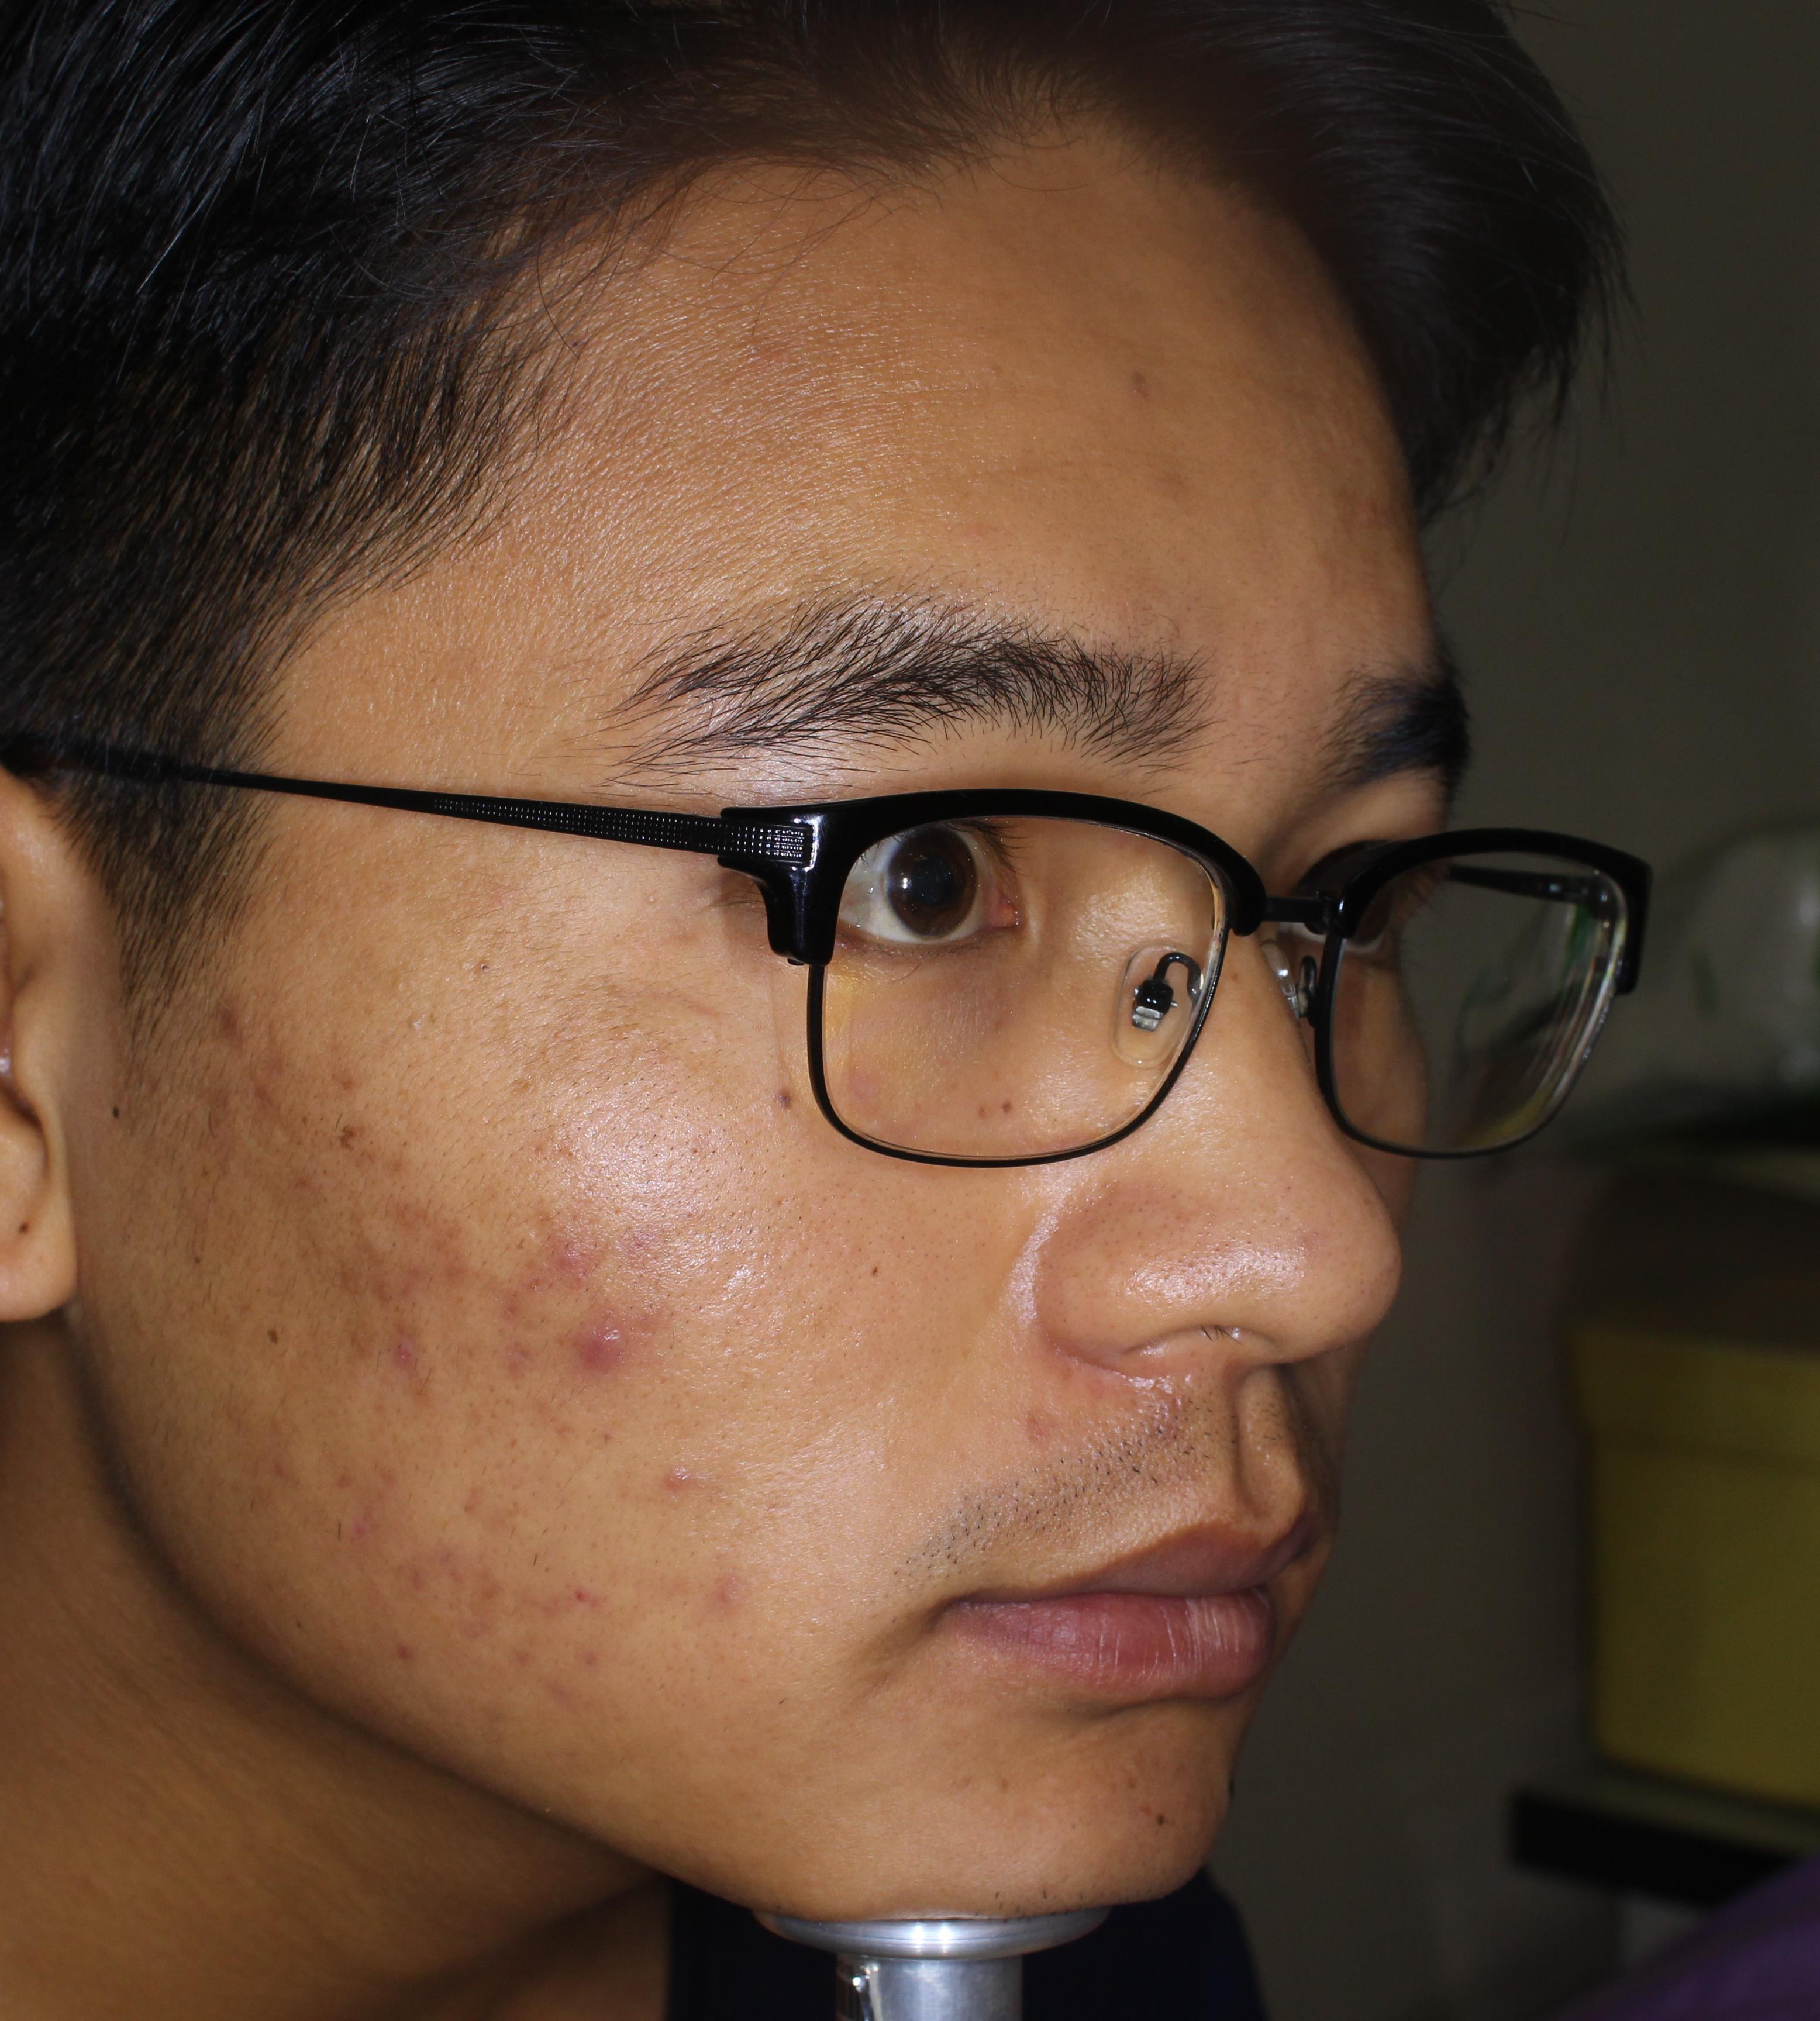fore: (184, 967, 297, 1104), (392, 1536, 508, 1643), (341, 1303, 450, 1410), (606, 1280, 690, 1410), (534, 1557, 611, 1670), (490, 1277, 566, 1375), (378, 1176, 471, 1254), (562, 1306, 603, 1375), (643, 1477, 696, 1508), (543, 1213, 583, 1254)
